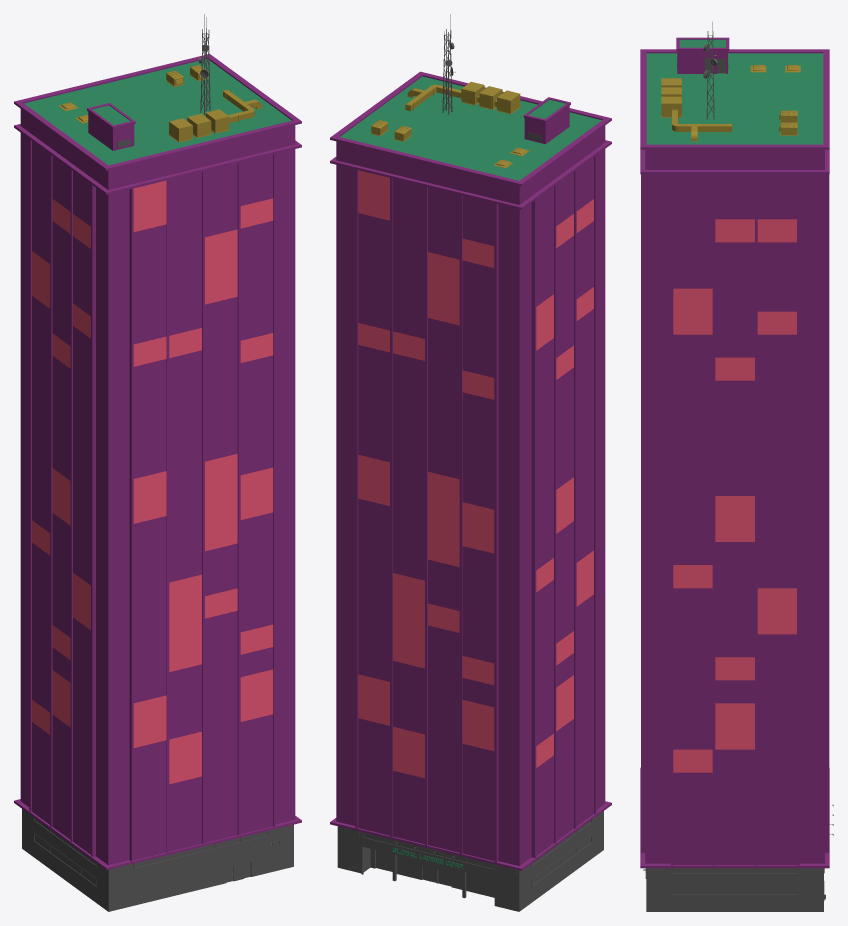
Rendered from mcp_building_02_LOD_0.FBX.
The picture shows the model from 3 angles, left to right: view 1: azimuth 30°, elevation 25°; view 2: azimuth 150°, elevation 25°; view 3: azimuth 270°, elevation 25°; orthographic projection. The views are drawn at different scales.
Visible parts, largest first — view 1: mcp_building_02_walls, mcp_building_02_rooftop, mcp_building_02, mcp_building_02_props_01, mcp_building_02_props_02; view 2: mcp_building_02_walls, mcp_building_02_rooftop, mcp_building_02, mcp_building_02_props_01, mcp_building_02_props_02; view 3: mcp_building_02_walls, mcp_building_02_rooftop, mcp_building_02, mcp_building_02_props_01, mcp_building_02_props_02.
Boxes of the visible parts, x1,y1,x2,y2 form: mcp_building_02_walls: (14,54,301,870); mcp_building_02_rooftop: (24,59,291,165); mcp_building_02: (22,139,293,911); mcp_building_02_props_01: (58,65,262,874); mcp_building_02_props_02: (199,14,210,114); mcp_building_02_walls: (330,71,611,870); mcp_building_02_rooftop: (340,76,601,180); mcp_building_02: (337,132,603,911); mcp_building_02_props_01: (371,81,529,168); mcp_building_02_props_02: (442,14,455,114); mcp_building_02_walls: (640,37,829,868); mcp_building_02_rooftop: (646,39,823,144); mcp_building_02: (643,57,833,911); mcp_building_02_props_01: (661,55,800,141); mcp_building_02_props_02: (703,22,717,119).
Size of the model in its own units: 3916 by 16156 by 3262.
